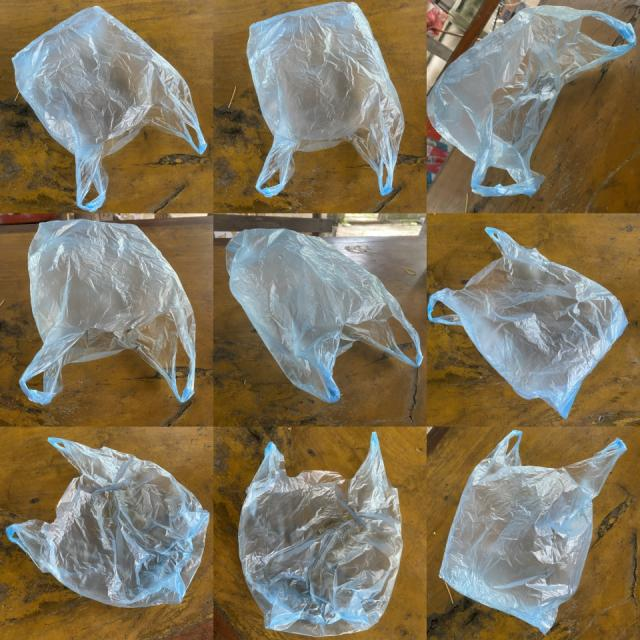Single-layer Plastic: (12, 6, 206, 211), (428, 5, 636, 196), (440, 430, 626, 634), (429, 228, 628, 418), (6, 438, 209, 607), (226, 229, 422, 402), (239, 432, 402, 636), (19, 220, 195, 404), (248, 1, 404, 196)
